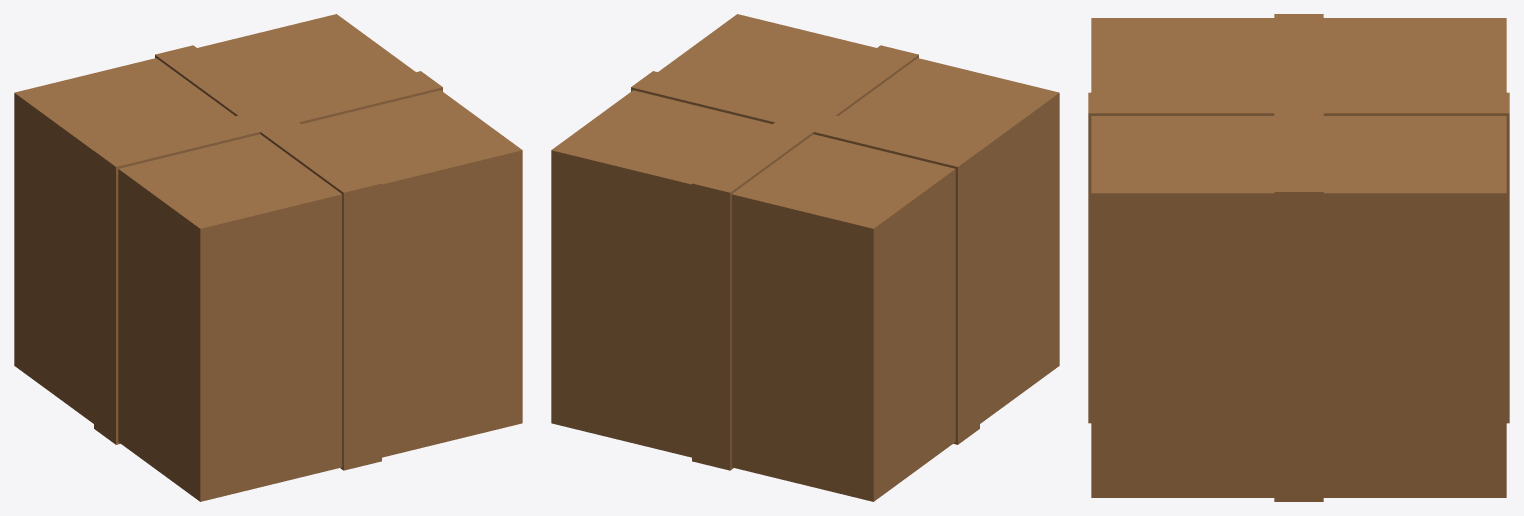
The model's file is parcel25.obj.
3 views of the same model, side by side, from view 1: azimuth 30°, elevation 25°; view 2: azimuth 150°, elevation 25°; view 3: azimuth 270°, elevation 25° (orthographic). The views are drawn at different scales.
Parts seen in each view (by area): view 1: parcel25; view 2: parcel25; view 3: parcel25.
Part boxes in pixels (x1,y1,x2,y2): parcel25: (14,14,522,501); parcel25: (551,14,1059,501); parcel25: (1088,14,1509,501).
Size of the model in its own units: 0.426 by 0.346 by 0.426.
